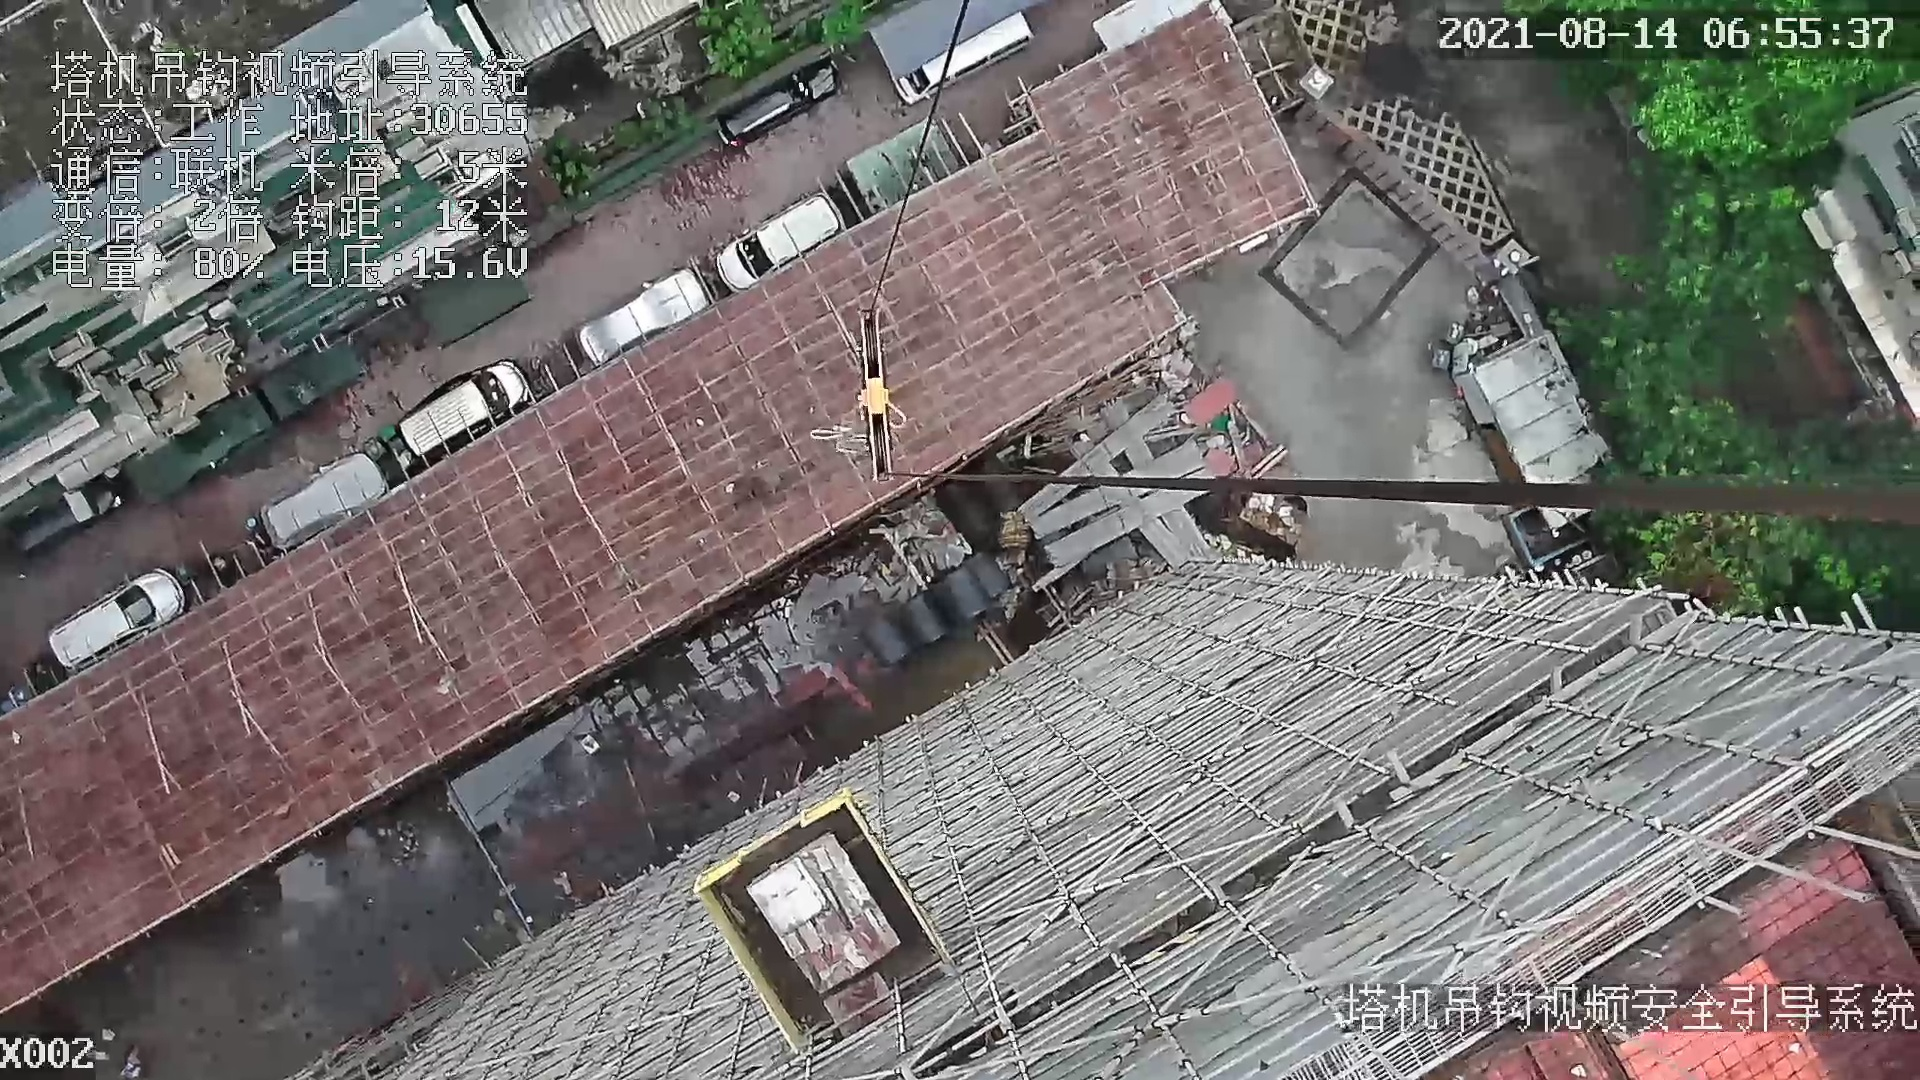board: (744, 835, 905, 992)
hook: (851, 301, 905, 477)
rebar: (1019, 396, 1176, 521), (1031, 439, 1207, 538), (1044, 491, 1207, 566), (1139, 518, 1187, 567), (1163, 508, 1211, 556)
